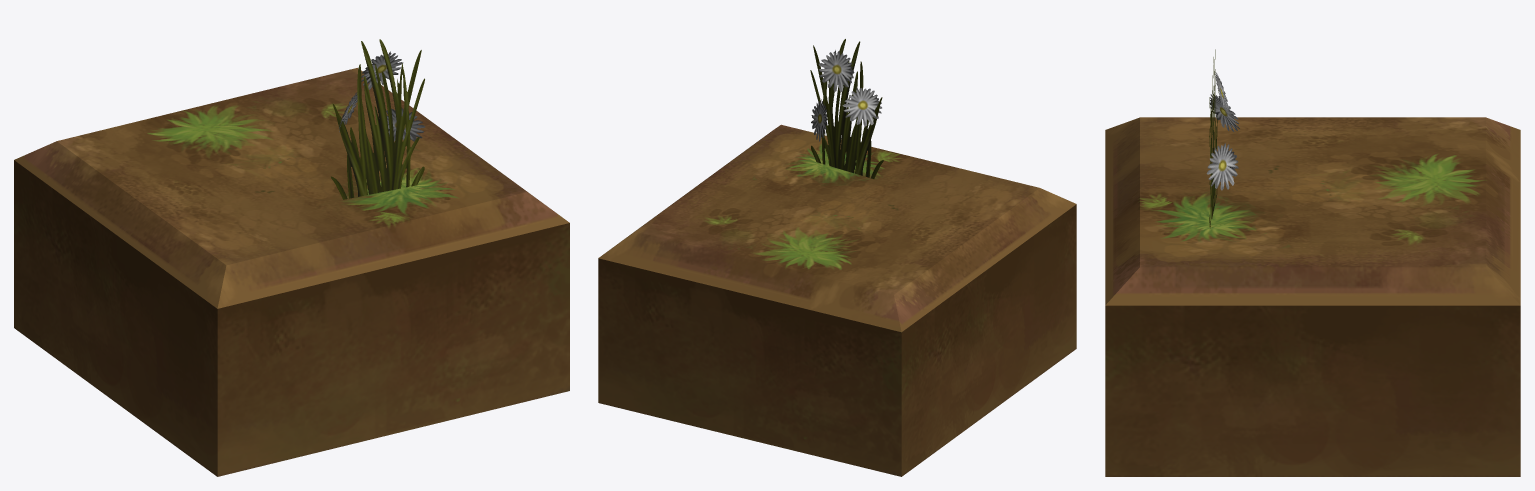
The model's file is tile_final7.FBX.
3 views of the same model, side by side, from view 1: azimuth 30°, elevation 25°; view 2: azimuth 150°, elevation 25°; view 3: azimuth 270°, elevation 25° (orthographic). The views are drawn at different scales.
Parts seen in each view (by area): view 1: Prefab5; view 2: Prefab5; view 3: Prefab5.
Boxes of the visible parts, box(x1,y1,x2,y2) form: Prefab5: box(14, 39, 569, 476); Prefab5: box(598, 39, 1076, 476); Prefab5: box(1105, 49, 1520, 476).
Bounding box in the file's own units: 24.96 × 24.47 × 24.96.
Materials: 2 (2 with a texture image).
